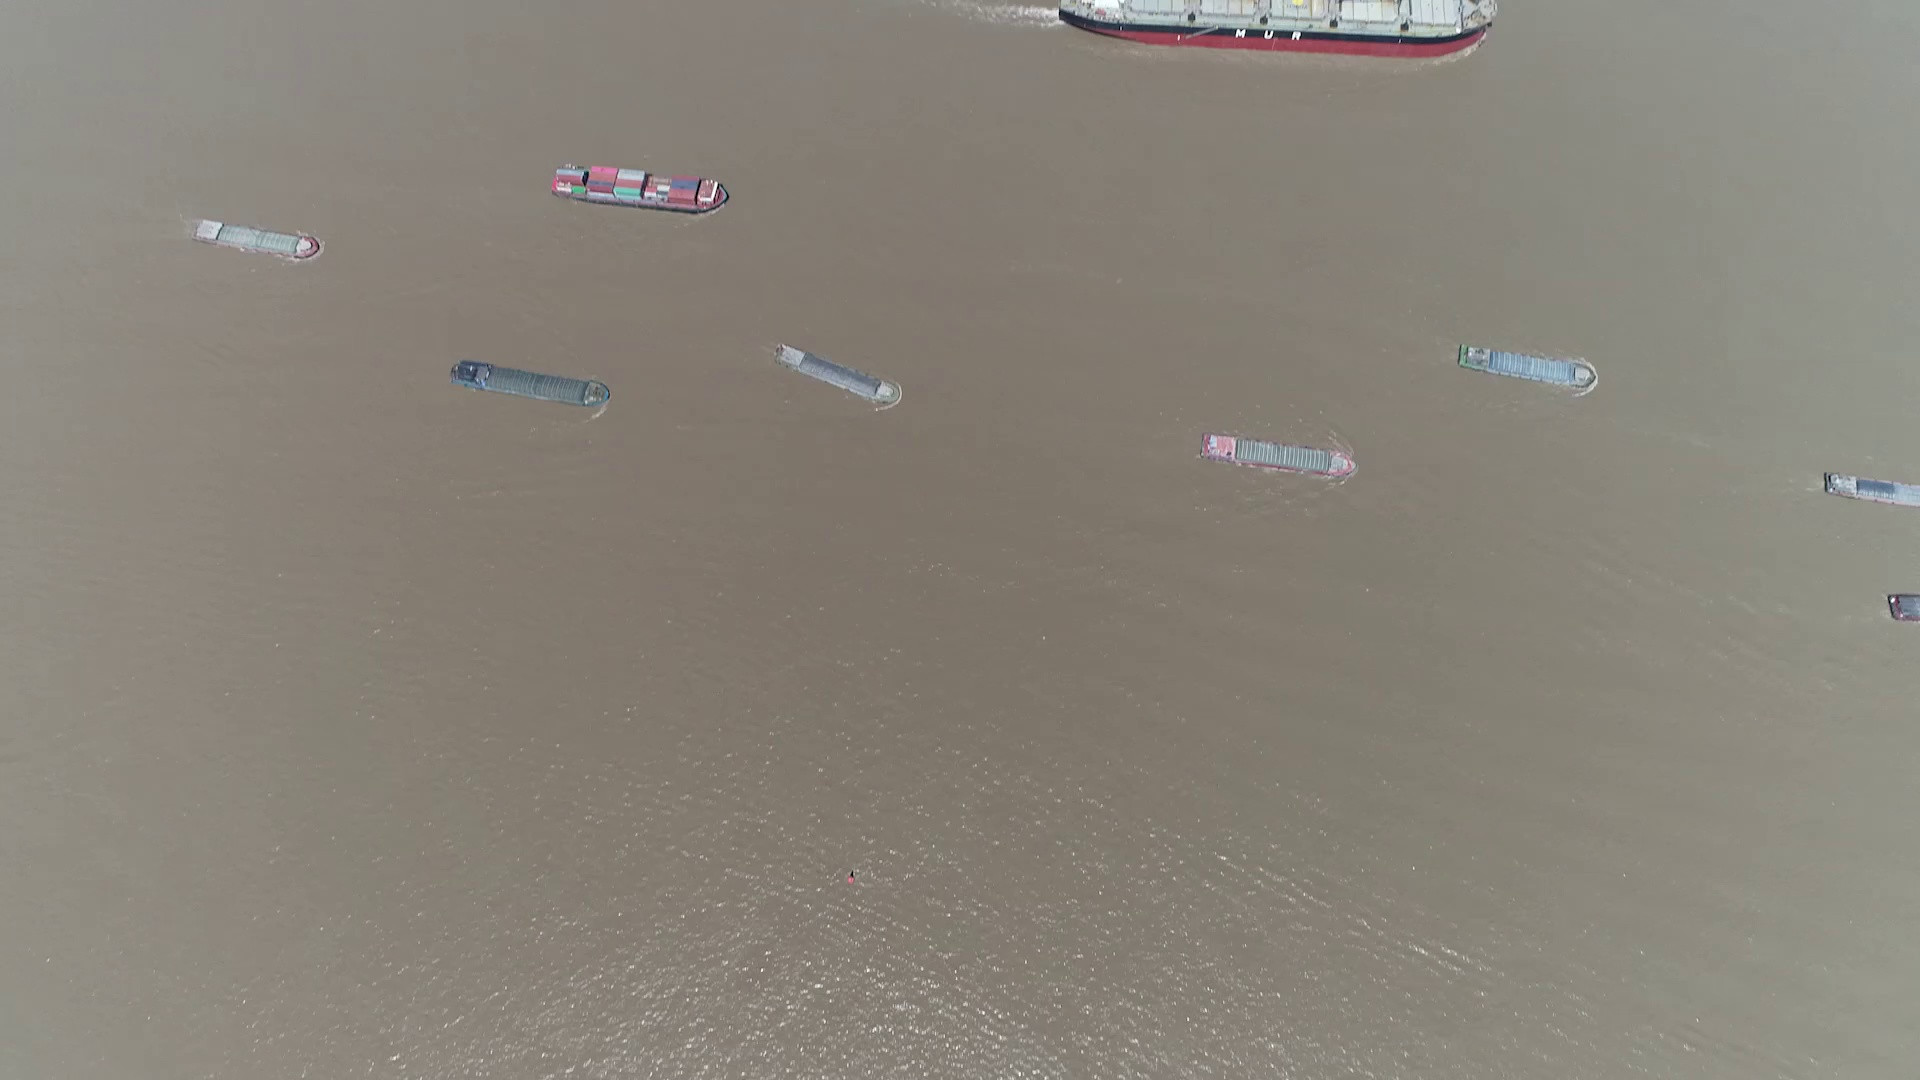ship: (1054, 3, 1499, 57), (450, 360, 608, 410), (547, 170, 727, 211), (773, 348, 898, 405), (1201, 439, 1352, 476), (1456, 349, 1593, 386), (194, 222, 316, 256), (1825, 476, 1917, 506), (1886, 592, 1919, 618)
